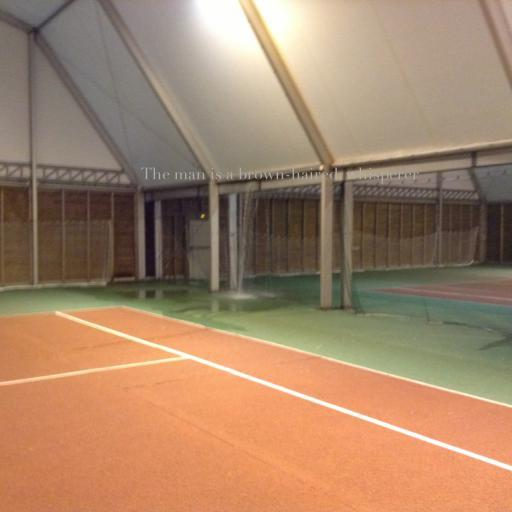Didot: (141, 167, 419, 184)
